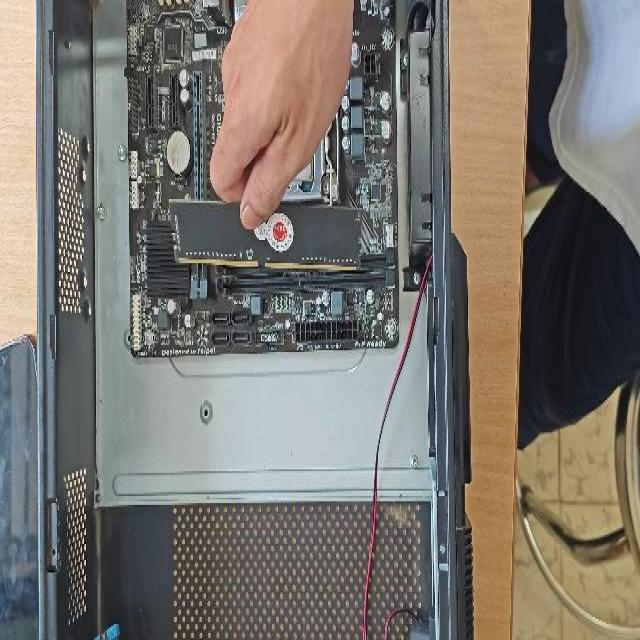Mainboard: (124, 0, 401, 357)
RAM: (167, 196, 363, 272)
